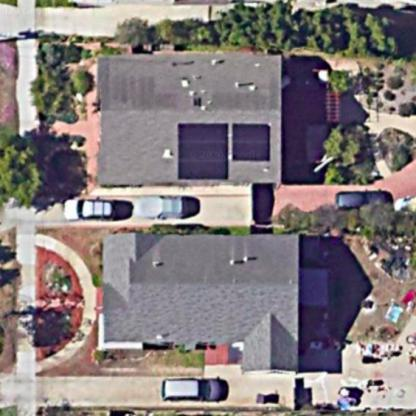car: (159, 372, 230, 402), (63, 194, 132, 224), (131, 196, 204, 220), (328, 187, 396, 212)
solar_panel: (164, 113, 234, 191), (227, 111, 275, 172)
